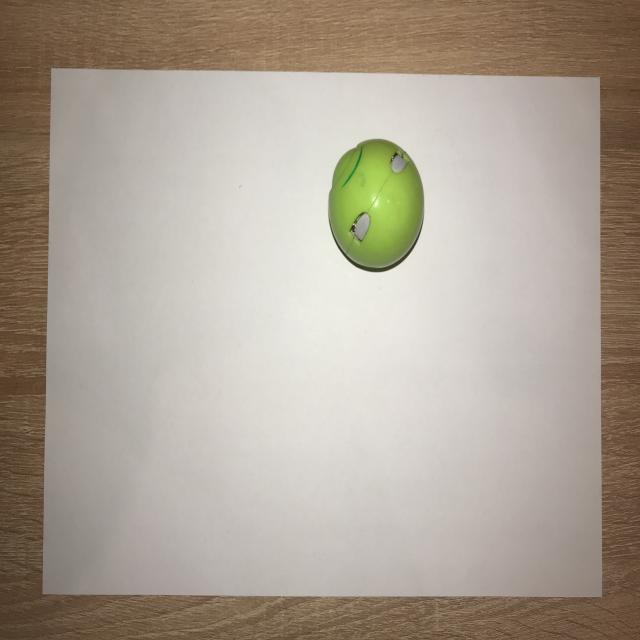toy: (326, 135, 428, 275)
